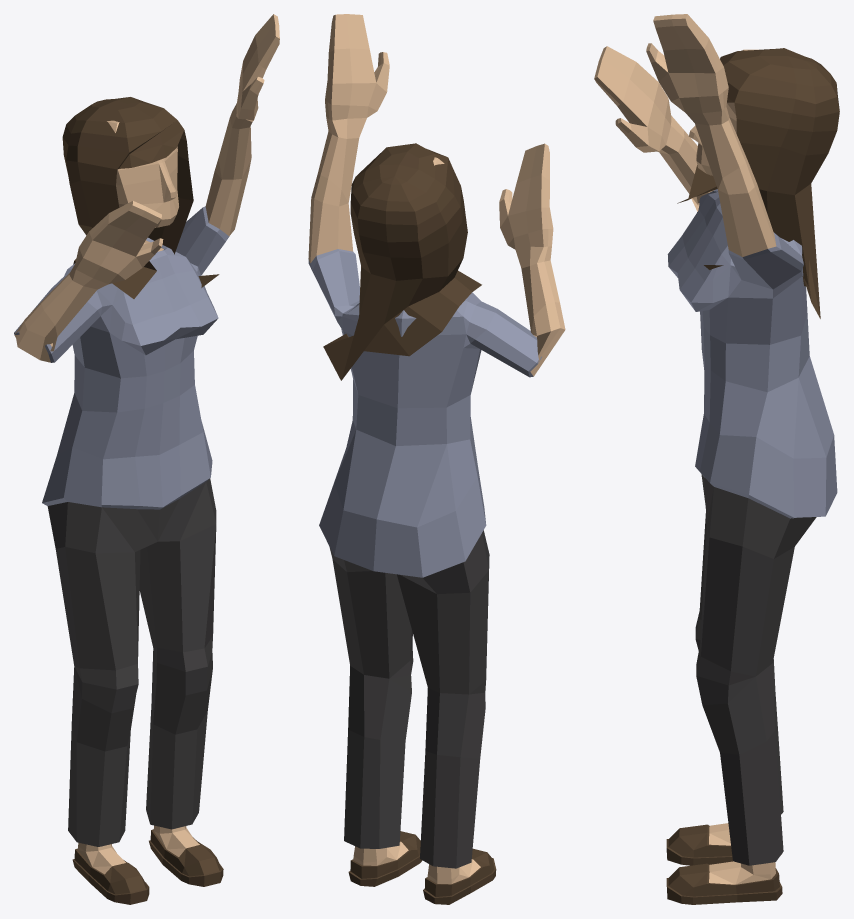
File: Female_Crowd_Dancing.glb
3 renders of one model, left to right at view 1: azimuth 30°, elevation 25°; view 2: azimuth 150°, elevation 25°; view 3: azimuth 270°, elevation 25°, orthographic. The views are drawn at different scales.
Visible parts, largest first — view 1: Female_Crowd_Dancing; view 2: Female_Crowd_Dancing; view 3: Female_Crowd_Dancing.
Part boxes in pixels (box(x1,y1,x2,y2)): Female_Crowd_Dancing: box(14, 14, 279, 904); Female_Crowd_Dancing: box(308, 14, 565, 904); Female_Crowd_Dancing: box(594, 14, 839, 904).
Bounding box in the file's own units: 0.563 × 1.86 × 0.451.
